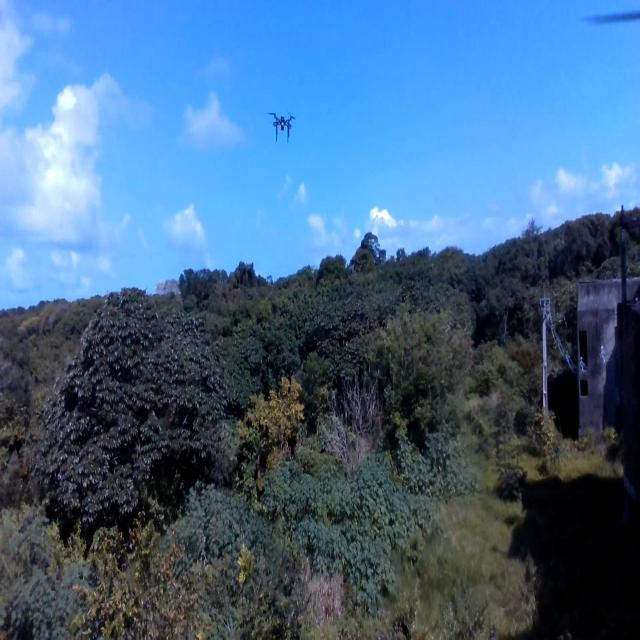-uav-: (266, 104, 306, 154)
